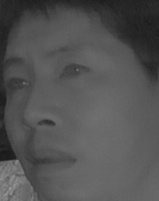eye: (56, 60, 96, 83), (2, 76, 32, 95)
mouth: (23, 144, 79, 177)
